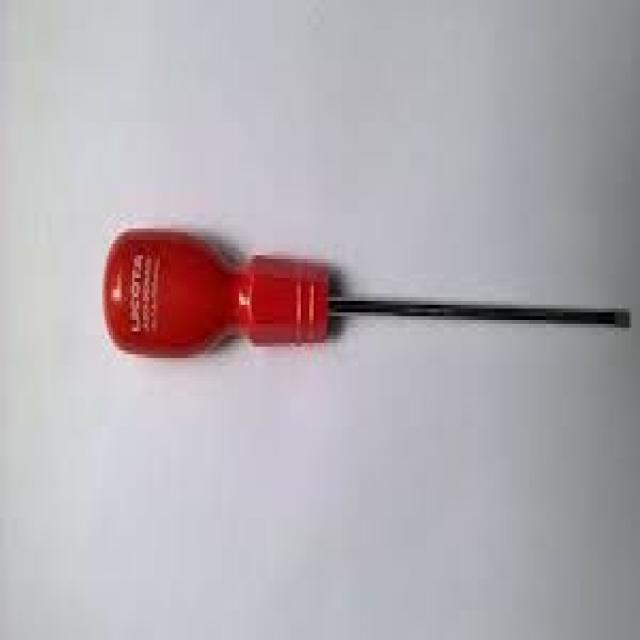screwdriver: (97, 221, 633, 362)
